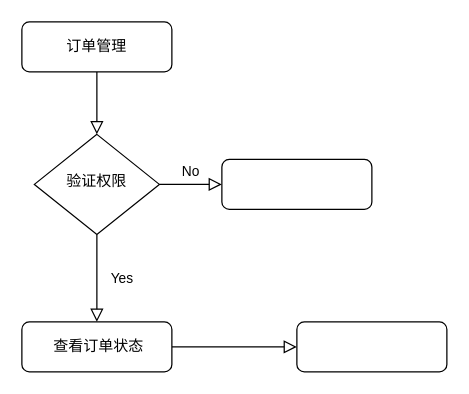
This 469x394 diagram has some shape labels left out. Here are the shapes that lost their labels. From the top down, the centre of each, then its label:
At point (296, 183): "弹出提示".
At point (371, 346): "查询、删除订单".
